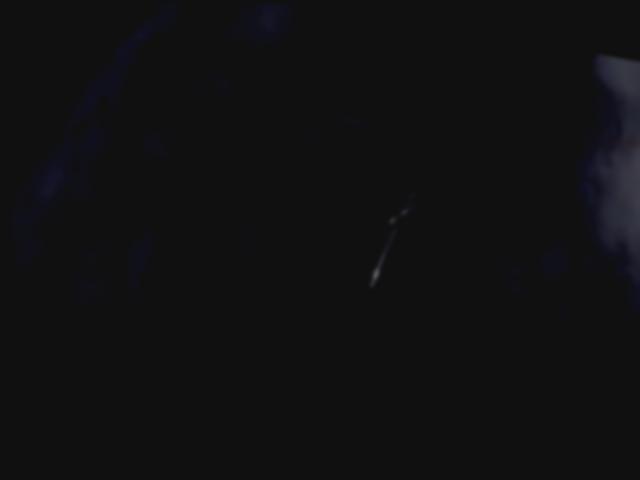iha: (361, 152, 434, 293)
